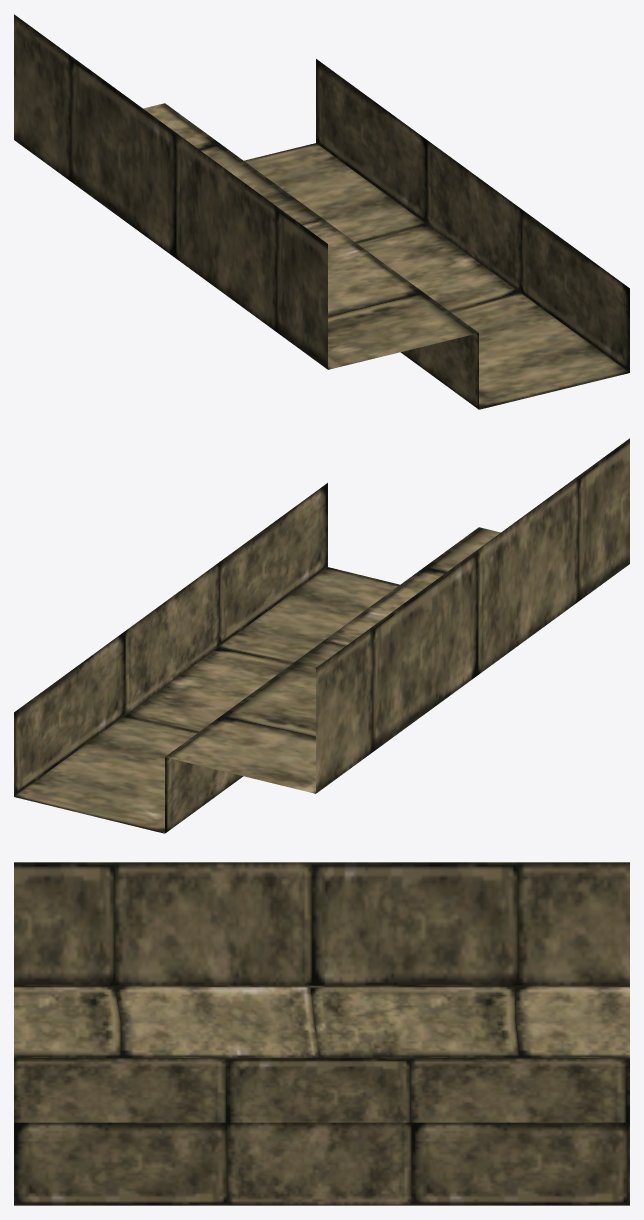
File: OVERHILL_A_01_OBJECT330.fbx
3 views of the same model, one above another, from view 1: azimuth 30°, elevation 25°; view 2: azimuth 150°, elevation 25°; view 3: azimuth 270°, elevation 25° (orthographic).
Visible parts, largest first — view 1: OVERHILL_A_01_OBJECT330; view 2: OVERHILL_A_01_OBJECT330; view 3: OVERHILL_A_01_OBJECT330.
Boxes of the visible parts, x1=… form: OVERHILL_A_01_OBJECT330: x1=14, y1=14, x2=629, y2=409; OVERHILL_A_01_OBJECT330: x1=14, y1=438, x2=629, y2=833; OVERHILL_A_01_OBJECT330: x1=14, y1=862, x2=629, y2=1205.
Size of the model in its own units: 20180 by 12938 by 36360.
Materials: 1 (1 with a texture image).
